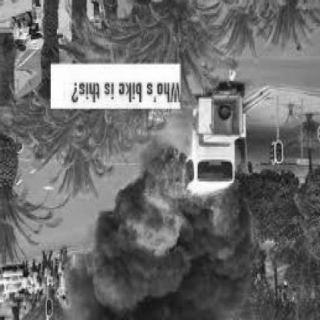Fire: (129, 149, 233, 277)
Smoke: (227, 192, 261, 255), (97, 200, 129, 254)
